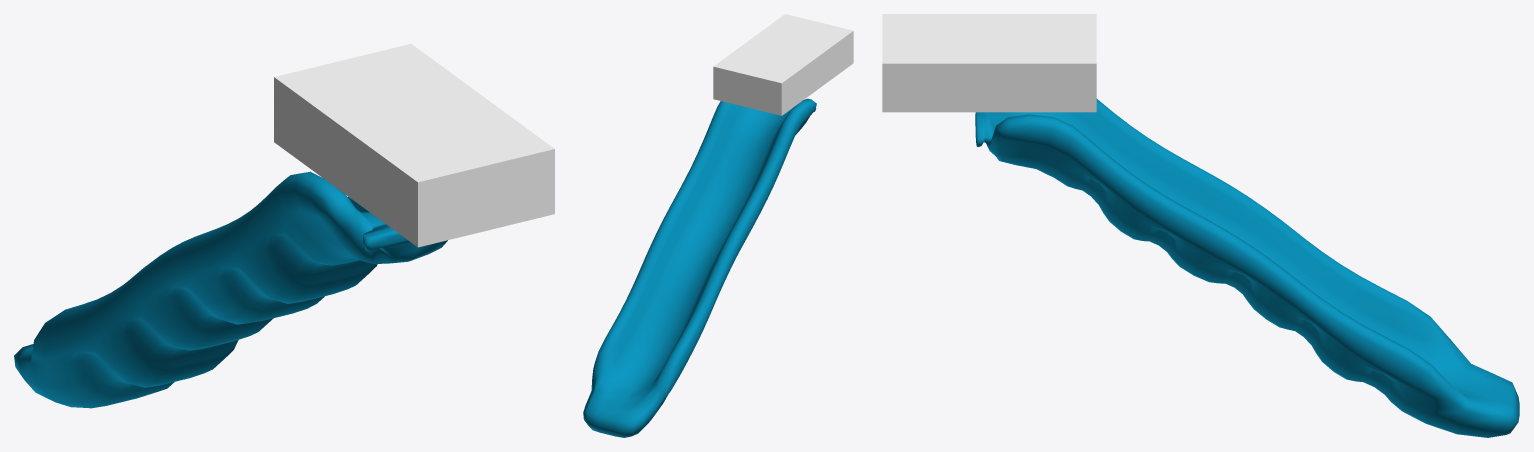
File: DX Wave Slide - 5ft.glb
The picture shows the model from 3 angles, left to right: view 1: azimuth 30°, elevation 25°; view 2: azimuth 150°, elevation 25°; view 3: azimuth 270°, elevation 25°; orthographic projection. The views are drawn at different scales.
Visible parts, largest first — view 1: Plane036,_colorize_, joint,0,6; view 2: Plane036,_colorize_, joint,0,6; view 3: Plane036,_colorize_, joint,0,6.
Part boxes in pixels (x1,y1,x2,y2): Plane036,_colorize_: (14,171,447,408); joint,0,6: (274,44,554,247); Plane036,_colorize_: (583,98,816,437); joint,0,6: (713,14,853,115); Plane036,_colorize_: (975,98,1519,437); joint,0,6: (882,14,1096,112).
Bounding box in the file's own units: 0.6301 × 2 × 2.98.
